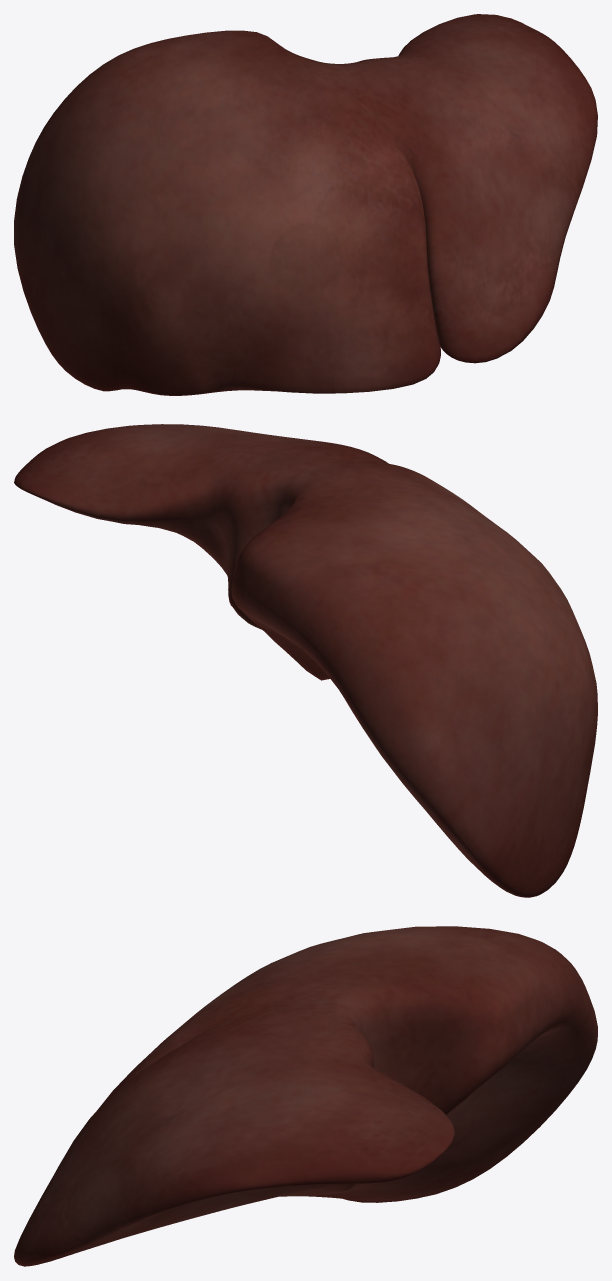
File: Liver.gltf
The picture shows the model from 3 angles, top to bottom: view 1: azimuth 30°, elevation 25°; view 2: azimuth 150°, elevation 25°; view 3: azimuth 270°, elevation 25°; orthographic projection. The views are drawn at different scales.
Visible parts, largest first — view 1: Object_2; view 2: Object_2; view 3: Object_2.
Part boxes in pixels (box(x1,y1,x2,y2)): Object_2: box(14, 14, 597, 395); Object_2: box(14, 424, 597, 897); Object_2: box(14, 926, 597, 1266).
Bounding box in the file's own units: 17.63 × 10.13 × 15.77.
1 material, 1 textured.
